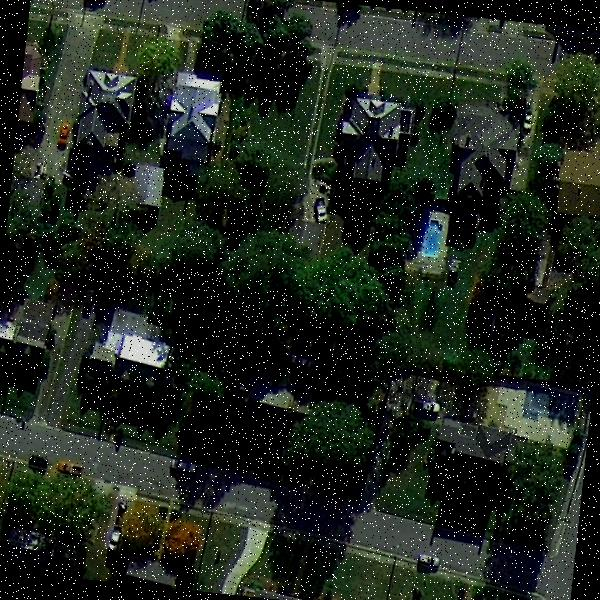Buildings: (334, 92, 404, 180), (454, 112, 515, 201), (438, 410, 516, 471), (164, 70, 219, 156), (78, 70, 134, 147), (86, 326, 168, 376), (543, 147, 600, 217), (17, 52, 42, 117), (16, 306, 54, 342)
